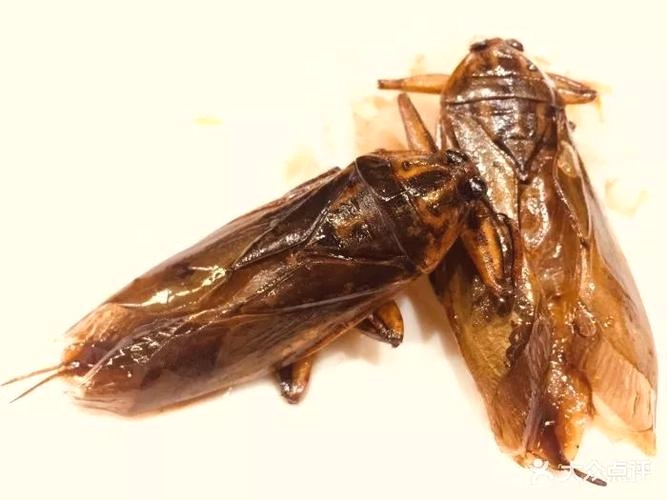Stink_Bug: (25, 139, 470, 387), (410, 23, 652, 447)
